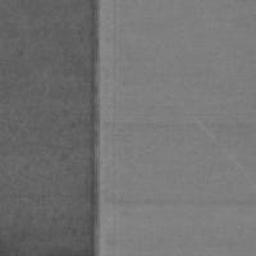Welding line: (90, 0, 102, 256)
